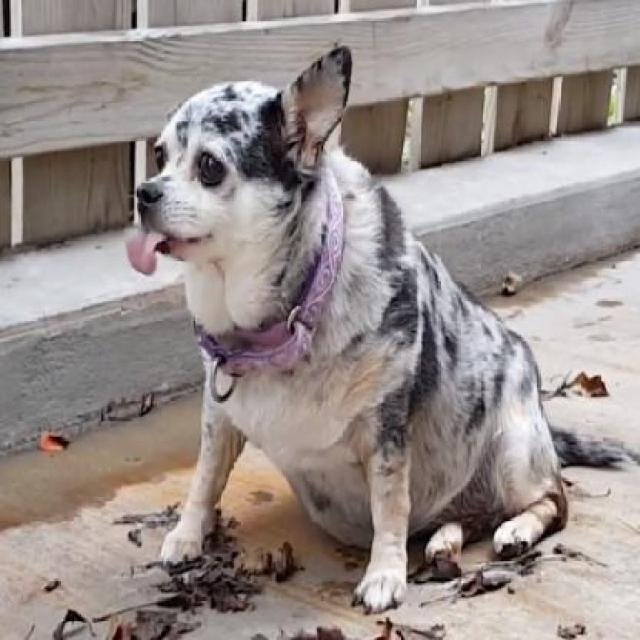Dog: (123, 43, 639, 615)
